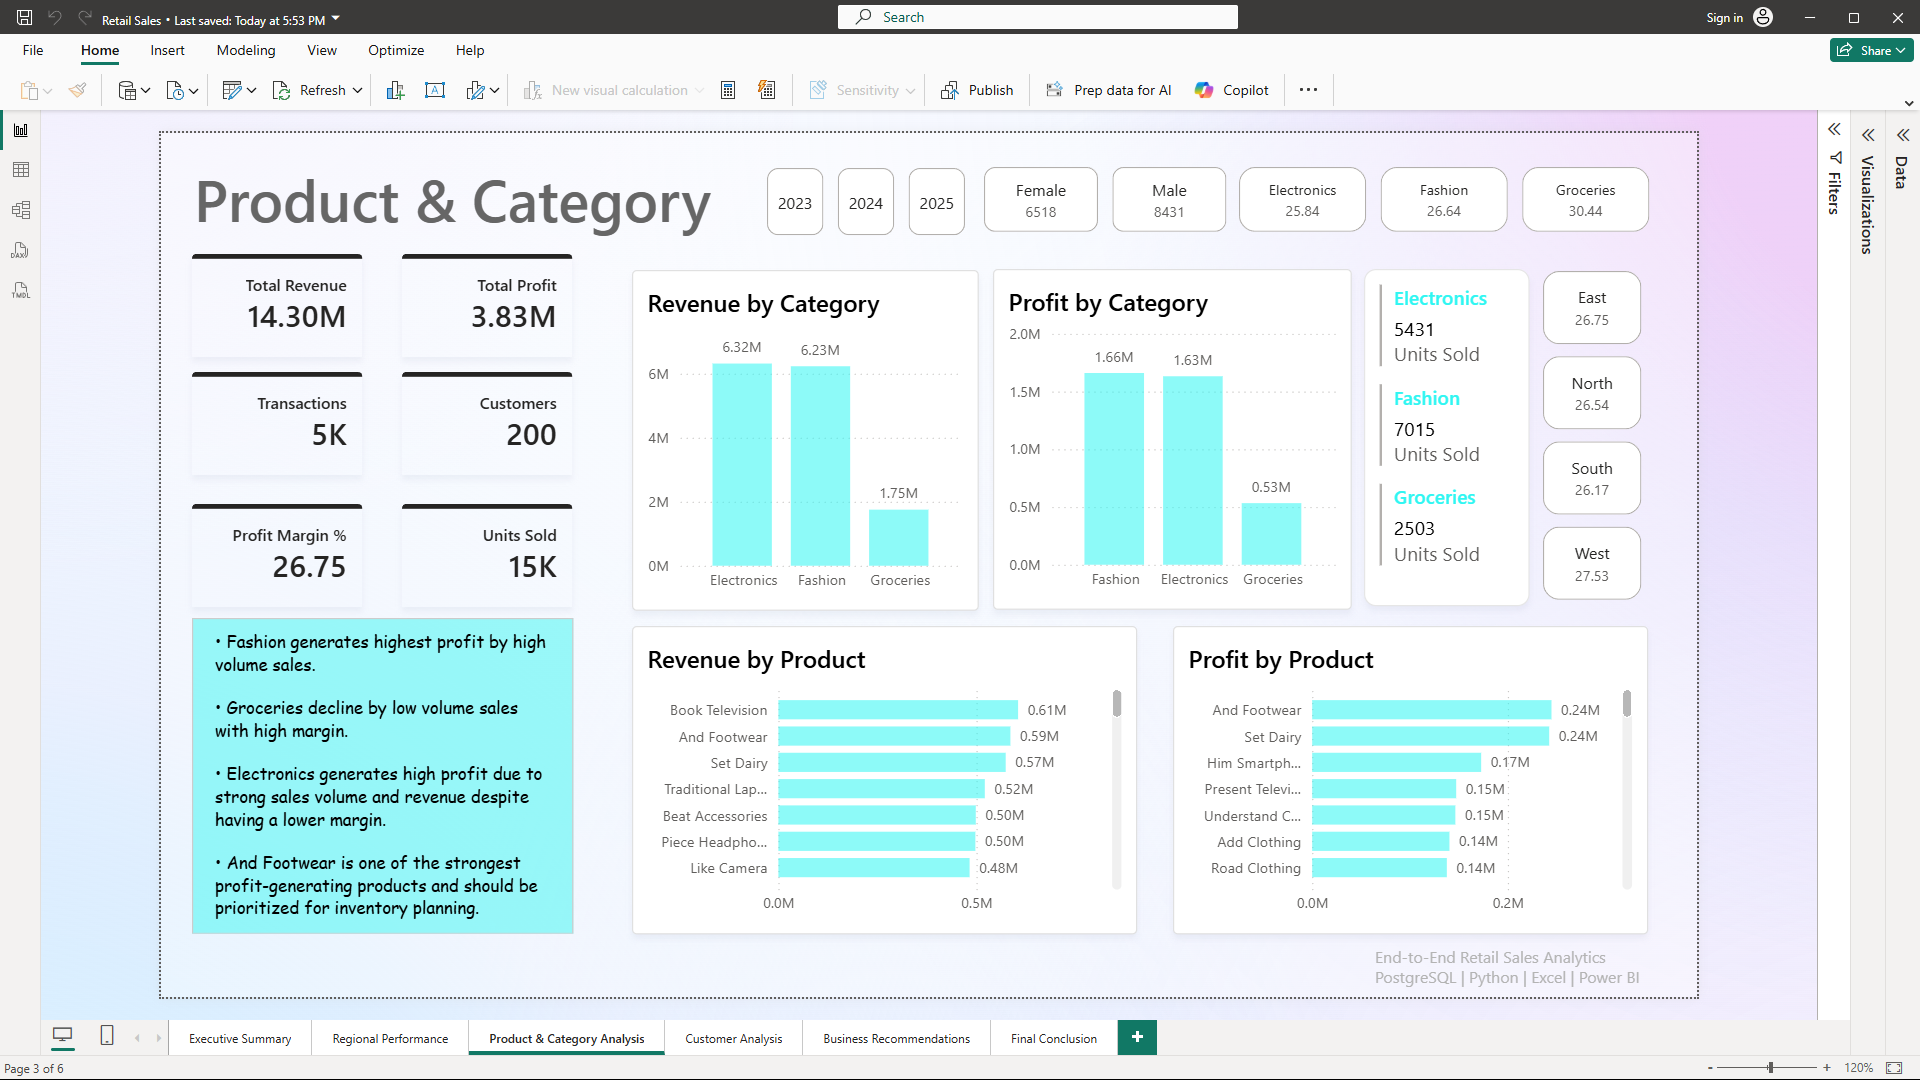

The dashboard page shown, as its layout file describes it:
{"tool":"powerbi","page":{"name":"Product & Category Analysis","canvas":[1280,720],"ordinal":2},"visuals":[{"type":"cardVisual","fields":{"Data":["_Measures.Total Revenue"]},"box":[25.6,101.1,142.2,85.6],"z":0},{"type":"cardVisual","fields":{"Data":["_Measures.Total Profit"]},"box":[201.1,101.1,142.2,85.6],"z":1000},{"type":"cardVisual","fields":{"Data":["_Measures.Transactions"]},"box":[25.6,198.9,142.2,85.6],"z":2000},{"type":"cardVisual","fields":{"Data":["_Measures.Customers"]},"box":[201.1,198.9,142.2,85.6],"z":3000},{"type":"cardVisual","fields":{"Data":["_Measures.Profit Margin %"]},"box":[25.6,308.9,142.2,85.6],"z":4000},{"type":"barChart","title":"Revenue by Product","fields":{"Category":["retail_business_table.productname"],"Y":["_Measures.Total Revenue"]},"box":[392.2,411.1,421.1,256.7],"z":5000},{"type":"barChart","title":"Profit by Product","fields":{"Y":["Sum(retail_business_table.profit)"],"Category":["retail_business_table.productname"]},"box":[843.3,411.1,395.6,256.7],"z":6000},{"type":"columnChart","title":"Revenue by Category","fields":{"Category":["retail_business_table.category"],"Y":["Sum(retail_business_table.revenue)"]},"box":[392.2,114.4,288.9,284.4],"z":7000},{"type":"advancedSlicerVisual","fields":{"Values":["retail_business_table.region"]},"box":[1146.7,110,92.2,284.4],"z":8000},{"type":"advancedSlicerVisual","fields":{"Values":["retail_business_table.category"]},"box":[893.3,13.3,354.4,84.4],"z":9000},{"type":"advancedSlicerVisual","fields":{"Values":["retail_business_table.gender"]},"box":[681.1,13.3,212.2,84.4],"z":10000},{"type":"multiRowCard","fields":{"Values":["retail_business_table.category","_Measures.Units Sold"]},"box":[1002.2,113.3,137.8,281.1],"z":11000},{"type":"textbox","box":[22.2,17.8,443.3,80],"z":12000},{"type":"shape","box":[25.6,404.4,317.8,263.3],"z":13000},{"type":"cardVisual","fields":{"Data":["_Measures.Units Sold"]},"box":[201.1,308.9,142.2,85.6],"z":14000},{"type":"textbox","box":[40,408.9,288.9,254.4],"z":15000},{"type":"columnChart","title":"Profit by Category","fields":{"Category":["retail_business_table.category"],"Y":["_Measures.Total Profit"]},"box":[693.3,113.3,298.9,284.4],"z":16000},{"type":"advancedSlicerVisual","fields":{"Values":["DateTable.Year"]},"box":[500,14.4,176.7,86.7],"z":17000},{"type":"textbox","box":[1006.7,672.2,232.2,47.8],"z":18000}]}

Visuals, with their boxes on the page's 1280x720 design canvas (x1, y1, x2, y2). These are canvas units, not pixel positions in the 1920x1080 screenshot, which may show the page scaled, cropped or inside an application window:
cardVisual - _Measures.Total Revenue: region(26, 101, 168, 187)
cardVisual - _Measures.Total Profit: region(201, 101, 343, 187)
cardVisual - _Measures.Transactions: region(26, 199, 168, 284)
cardVisual - _Measures.Customers: region(201, 199, 343, 284)
cardVisual - _Measures.Profit Margin %: region(26, 309, 168, 394)
"Revenue by Product" barChart: region(392, 411, 813, 668)
"Profit by Product" barChart: region(843, 411, 1239, 668)
"Revenue by Category" columnChart: region(392, 114, 681, 399)
advancedSlicerVisual - retail_business_table.region: region(1147, 110, 1239, 394)
advancedSlicerVisual - retail_business_table.category: region(893, 13, 1248, 98)
advancedSlicerVisual - retail_business_table.gender: region(681, 13, 893, 98)
multiRowCard - retail_business_table.category x _Measures.Units Sold: region(1002, 113, 1140, 394)
textbox: region(22, 18, 466, 98)
shape: region(26, 404, 343, 668)
cardVisual - _Measures.Units Sold: region(201, 309, 343, 394)
textbox: region(40, 409, 329, 663)
"Profit by Category" columnChart: region(693, 113, 992, 398)
advancedSlicerVisual - DateTable.Year: region(500, 14, 677, 101)
textbox: region(1007, 672, 1239, 720)
